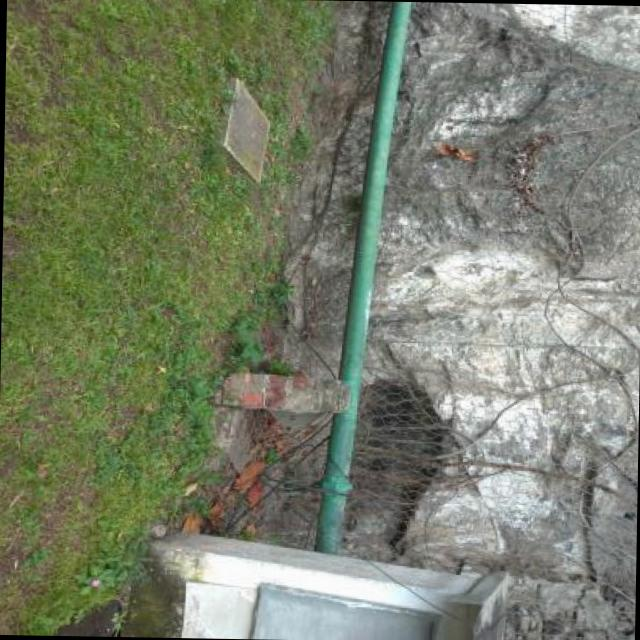gas: (315, 1, 410, 543)
